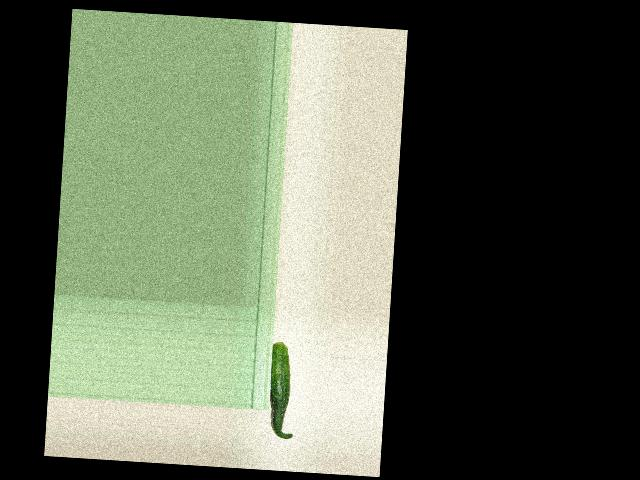cucumber: (266, 341, 298, 439)
